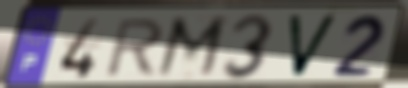2: (326, 11, 391, 82)
3: (220, 13, 276, 82)
4: (55, 17, 99, 81)
M: (151, 14, 231, 82)
R: (101, 17, 168, 80)
V: (285, 13, 342, 80)
